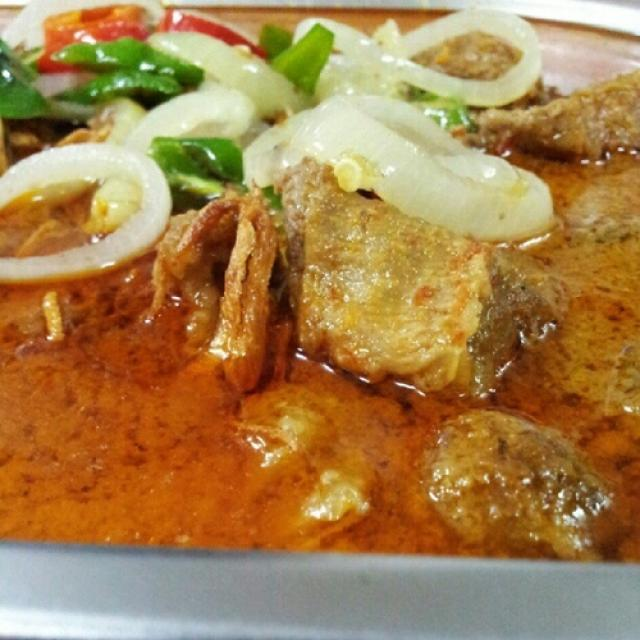熟制海鲜: (15, 13, 612, 594)
